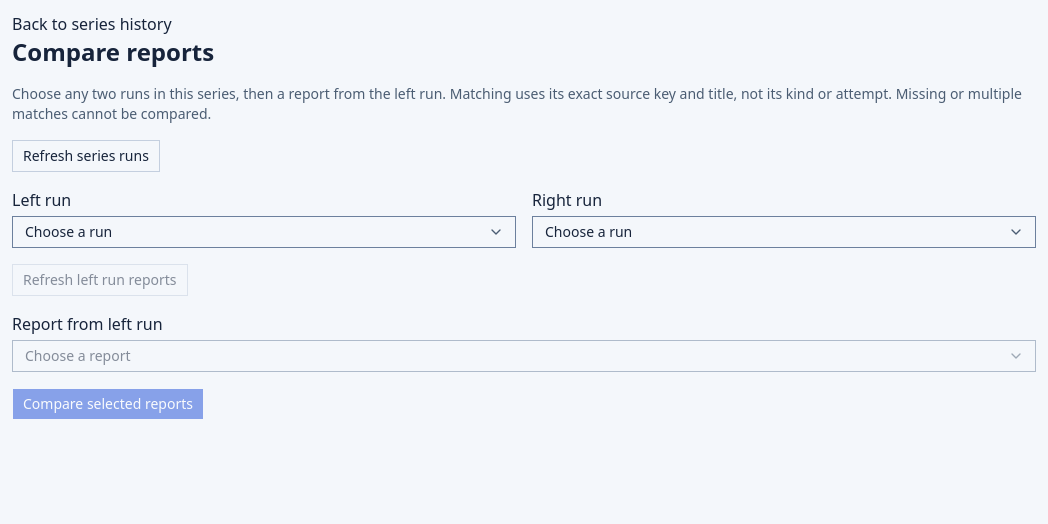
Test: series report comparison › does not show either side while comparison content is loading
Select "019ed132-2f44-7000-8000-000000000010 | 16 Oct 2026, 07:00:00.000 UTC | Succeeded" in the dropdown labelled "Left run" at (264, 232), box [12, 216, 516, 248]
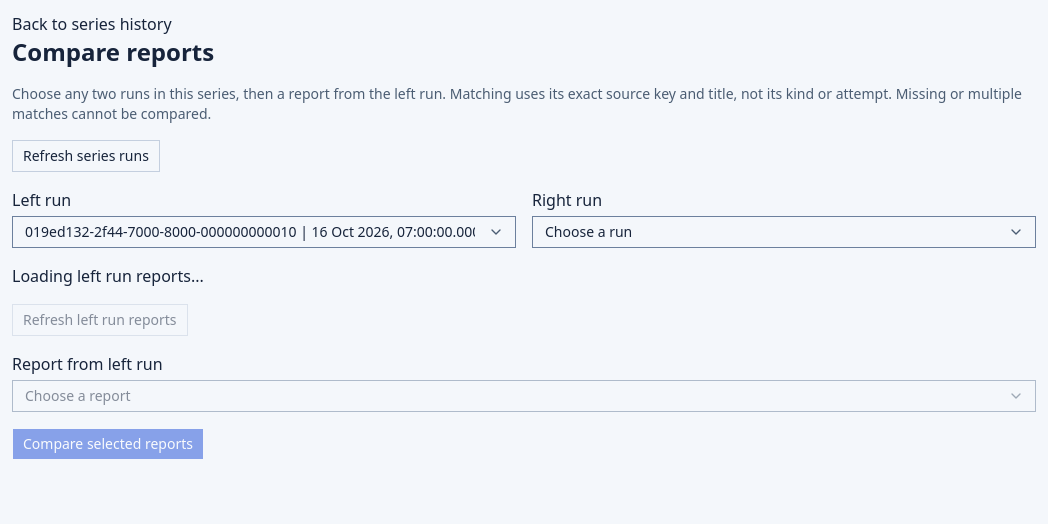
Select "019ed132-2f44-7000-8000-000000000011 | 16 Oct 2026, 07:00:00.000 UTC | Succeeded" in the dropdown labelled "Right run" at (784, 232), box [532, 216, 1036, 248]
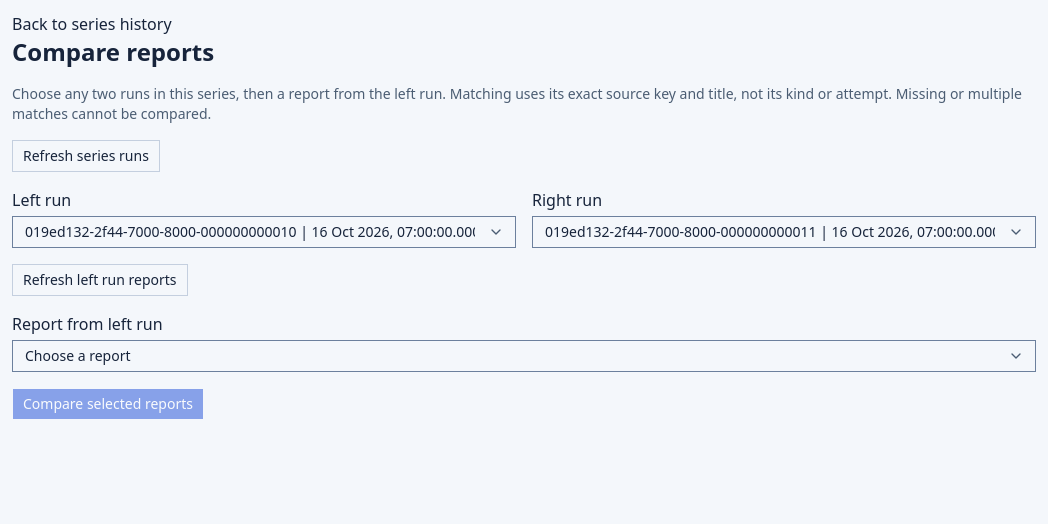
Select "019ed132-2f44-7000-8000-000000000020" in the dropdown labelled "Report from left run" at (524, 356), box [12, 340, 1036, 372]
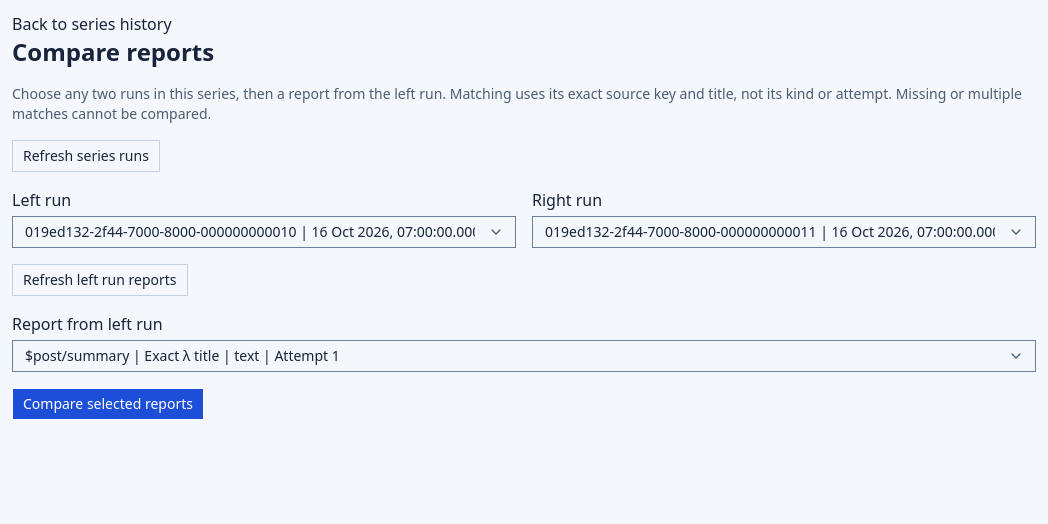
Click the button "Compare selected reports" at (108, 404), box [12, 388, 204, 420]
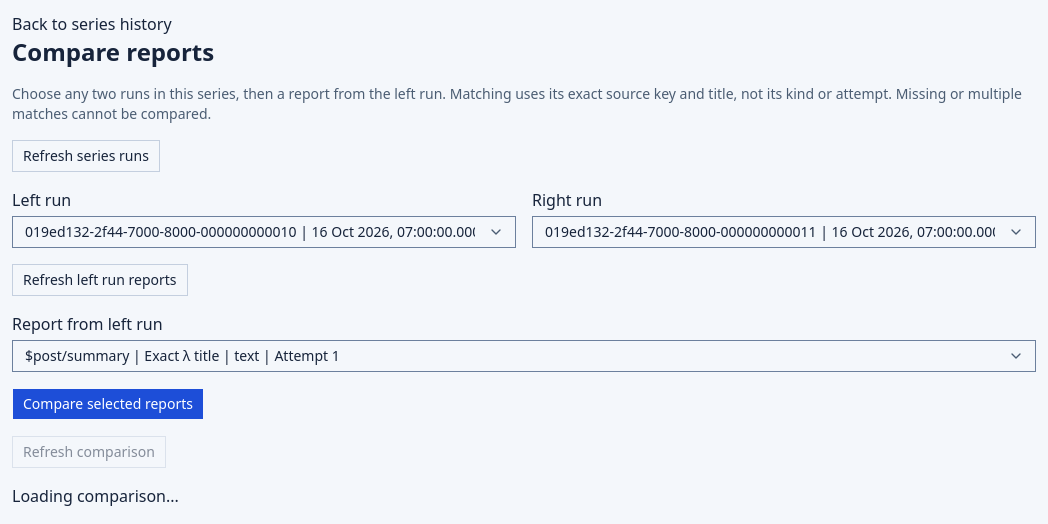
Result: the message reads "Loading comparison..." at [12, 485, 179, 507]
Result: the button "Refresh comparison" is disabled at [12, 436, 166, 468]
